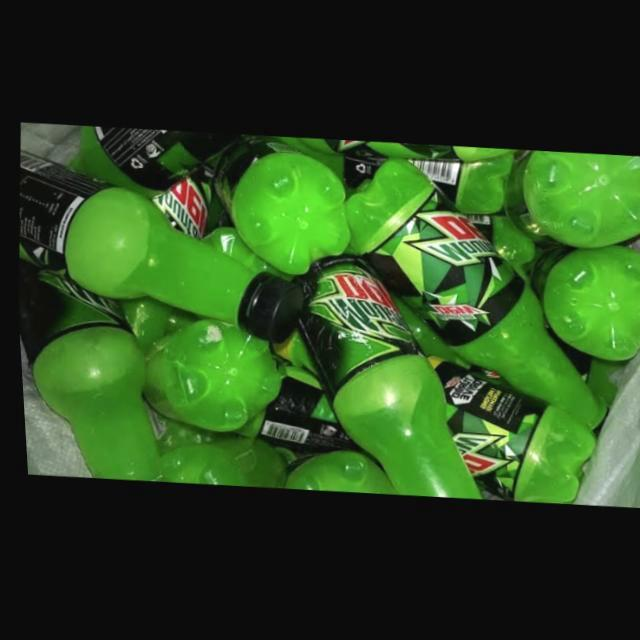plastic_bottle: (342, 157, 601, 430), (16, 151, 301, 343), (290, 254, 477, 501), (14, 263, 153, 481), (211, 136, 346, 275), (501, 151, 640, 248), (530, 245, 640, 362)
